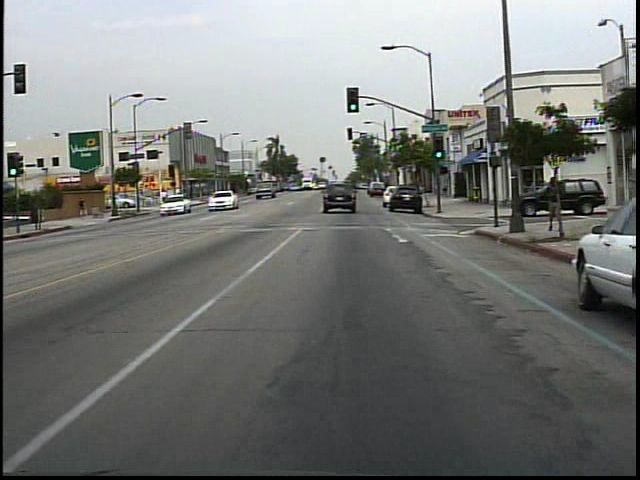person: (542, 170, 567, 240), (75, 191, 95, 220), (158, 188, 168, 203)
